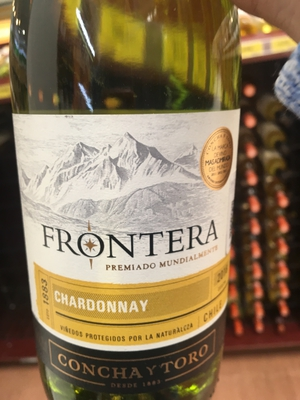frontera chardonnay: (7, 8, 250, 400)
